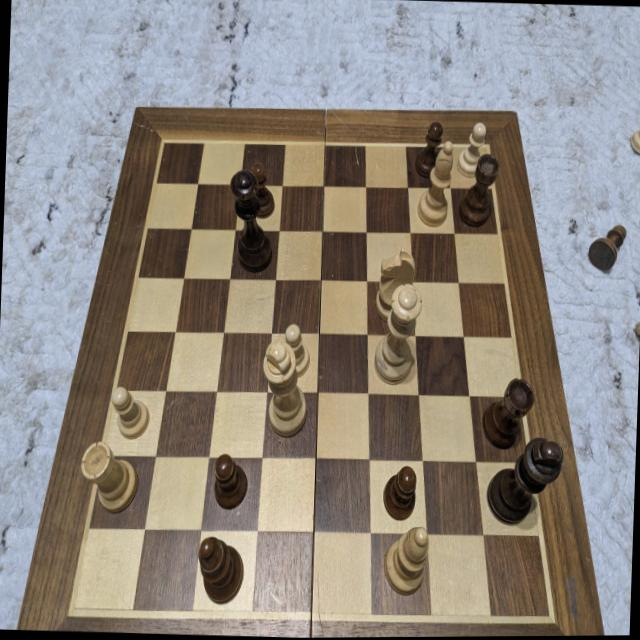black_bishop: (196, 535, 244, 606)
black_king: (484, 435, 564, 528)
black_pawn: (212, 452, 248, 511), (382, 464, 416, 522), (414, 120, 444, 180), (248, 161, 277, 221)
black_queen: (227, 168, 275, 274)
black_rook: (480, 376, 535, 452), (458, 153, 500, 229)
white_bishop: (382, 525, 430, 596), (416, 139, 454, 228)
white_king: (260, 338, 309, 439)
white_knight: (374, 247, 416, 323)
white_pawn: (110, 386, 151, 441), (456, 122, 486, 179), (282, 322, 312, 379)
white_queen: (373, 282, 424, 386)
white_rook: (78, 440, 140, 515)
